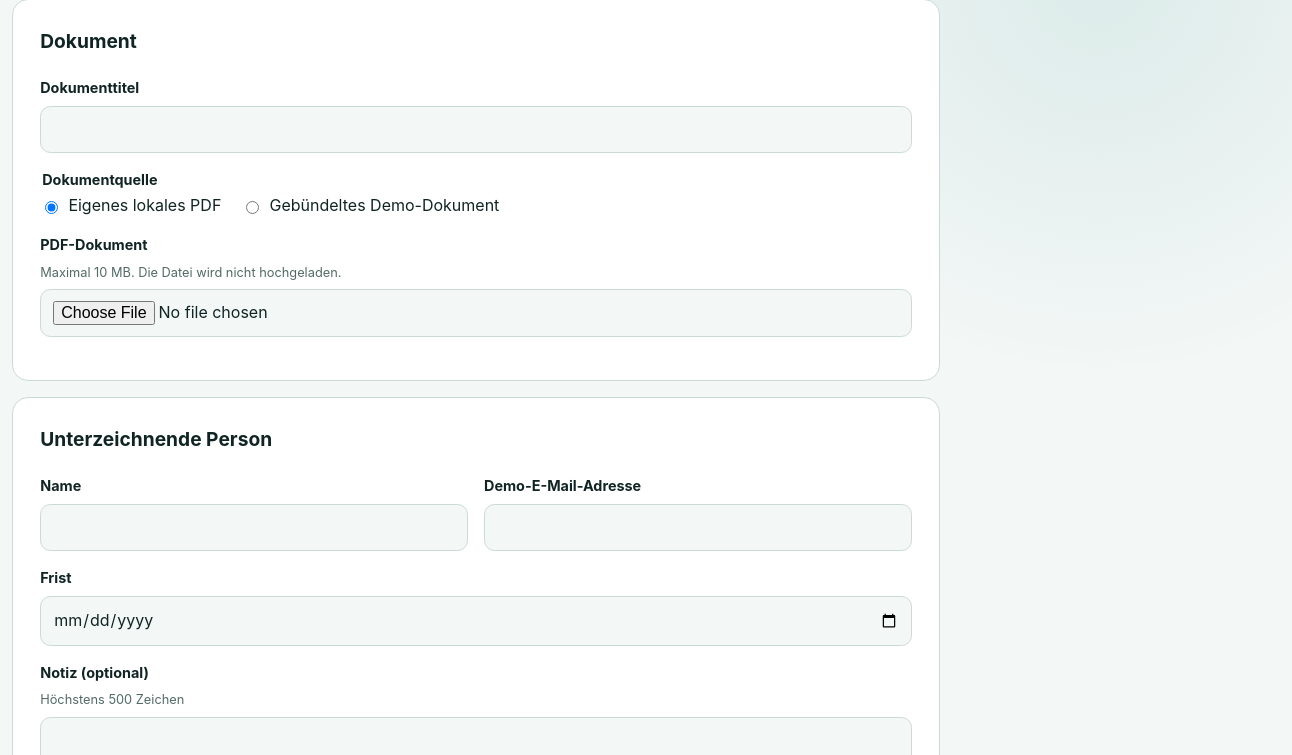
Test: CreateWorkflowPage › reviews and locally saves a complete demo-document workflow
This screenshot has width=1292, height=755.
Later steps or results of the test are not shown.
In the field labelled "Dokumenttitel": [476, 130] box [40,106,912,154], type "Testvereinbarung"
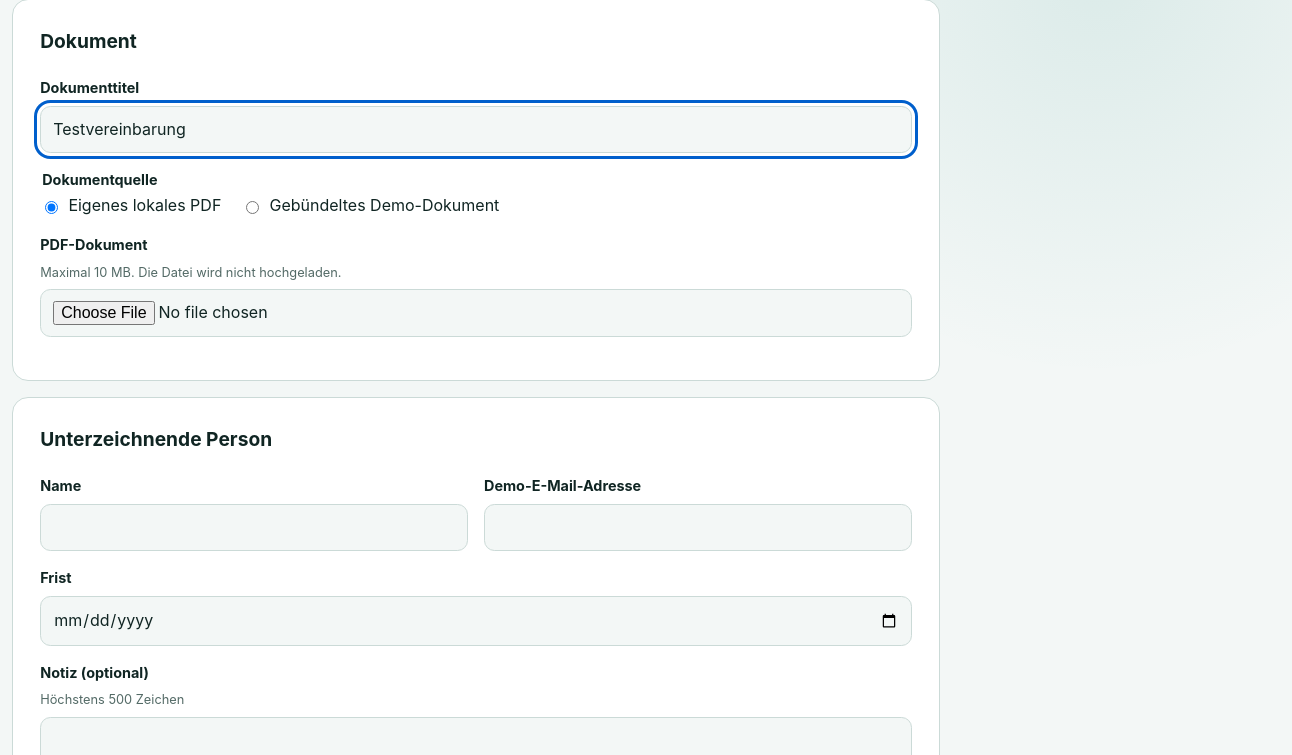
Click the radio button labelled "Gebündeltes Demo-Dokument": [253, 207] box [246,201,259,214]
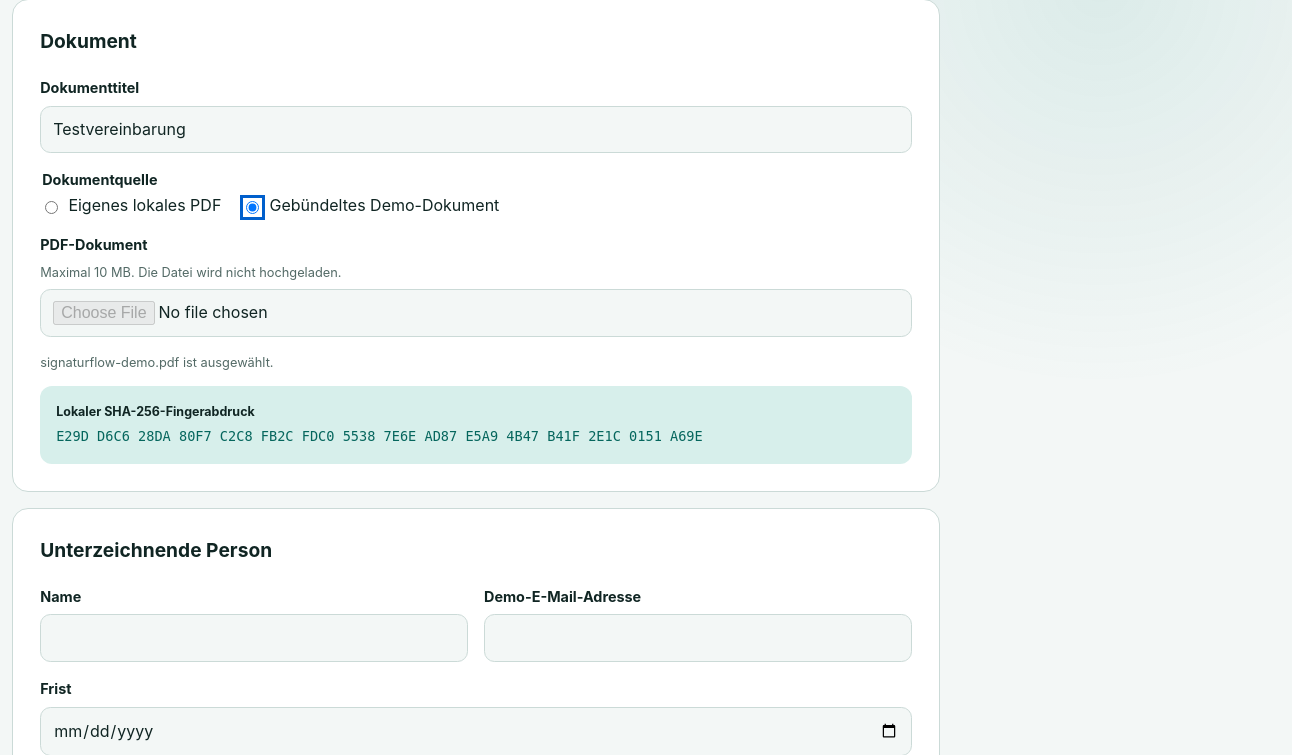
Expected: the text "signaturflow-demo.pdf ist ausgewählt." is shown, [40,355,274,370]
In the field labelled "Name": [254, 638] box [40,614,468,662], type "Mara Beispiel"
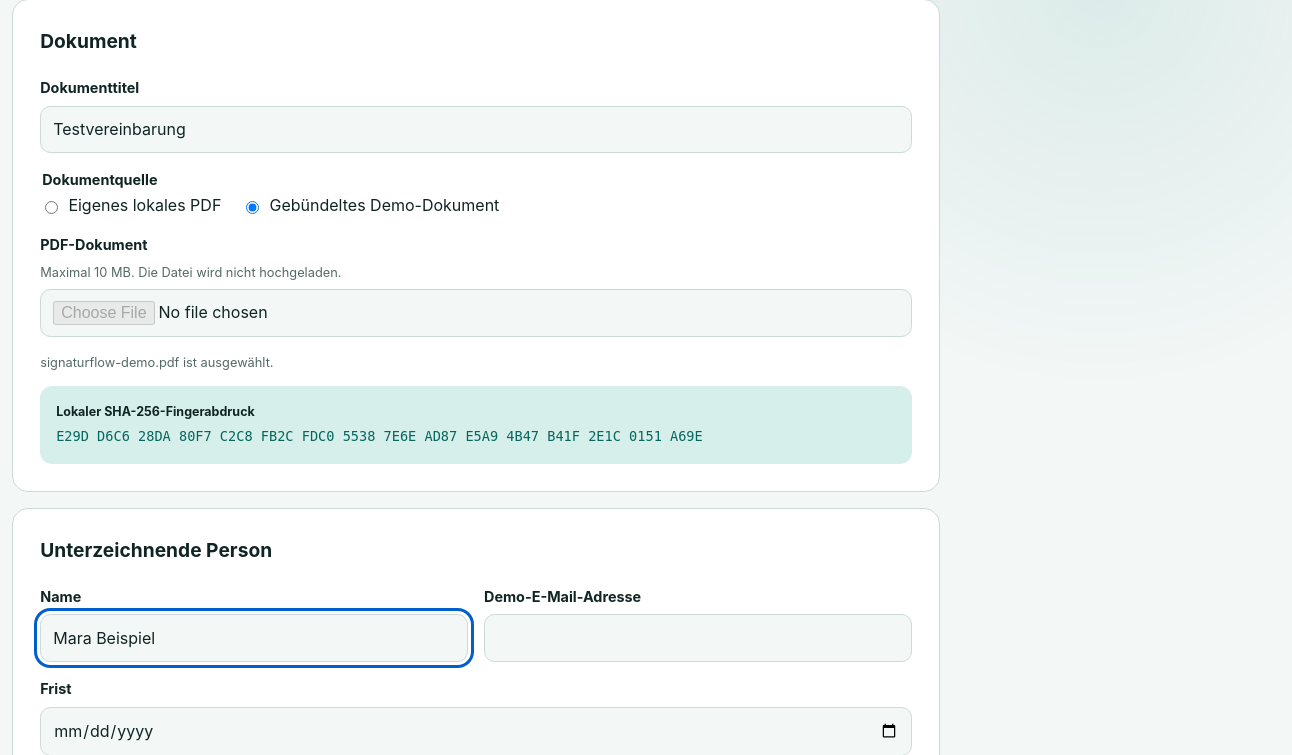
In the field labelled "Demo-E-Mail-Adresse": [698, 638] box [484,614,912,662], type "mara@example.test"
(page scrolled)
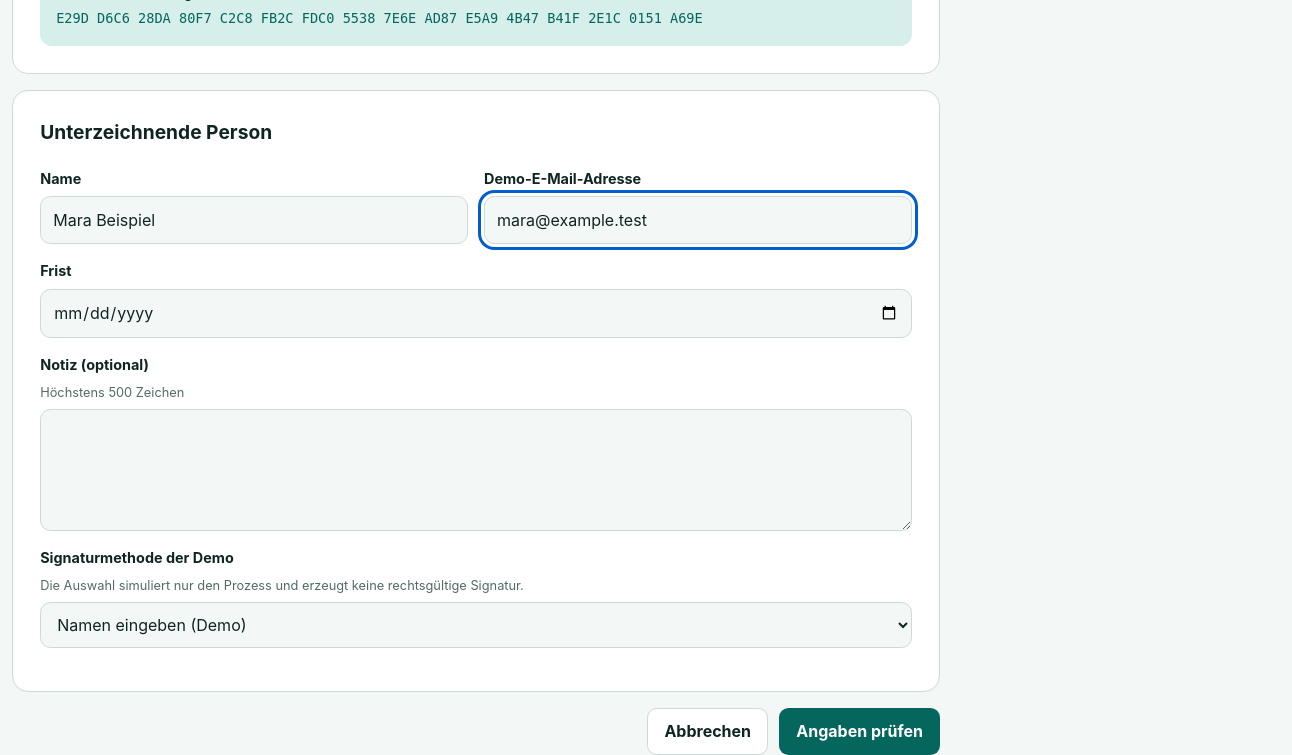
In the date field labelled "Frist": [476, 313] box [40,289,912,338], type "2026-11-25"
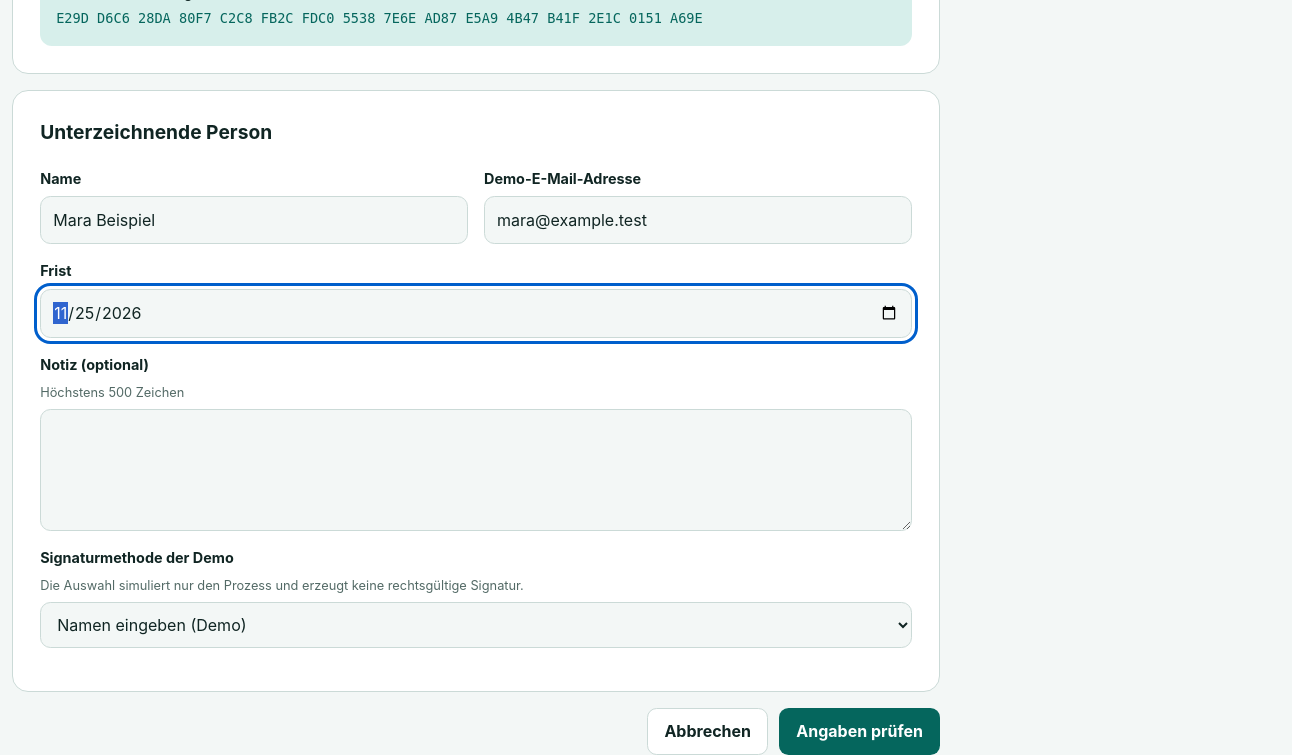
Click the button "Angaben prüfen": [860, 732] box [779,708,940,754]
(page scrolled)
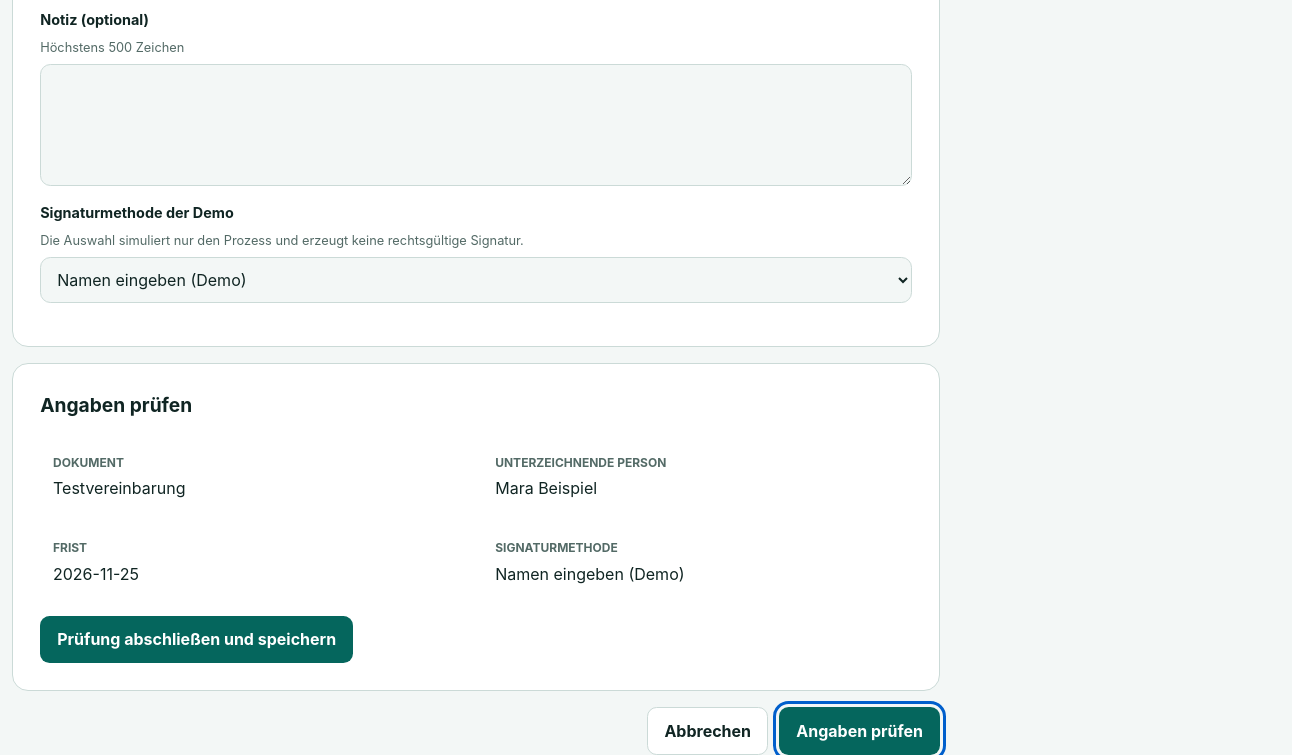
Expected: the heading "Angaben prüfen" is shown, [40,393,192,417]
Expected: the text "Namen eingeben (Demo)" is shown 2 times
